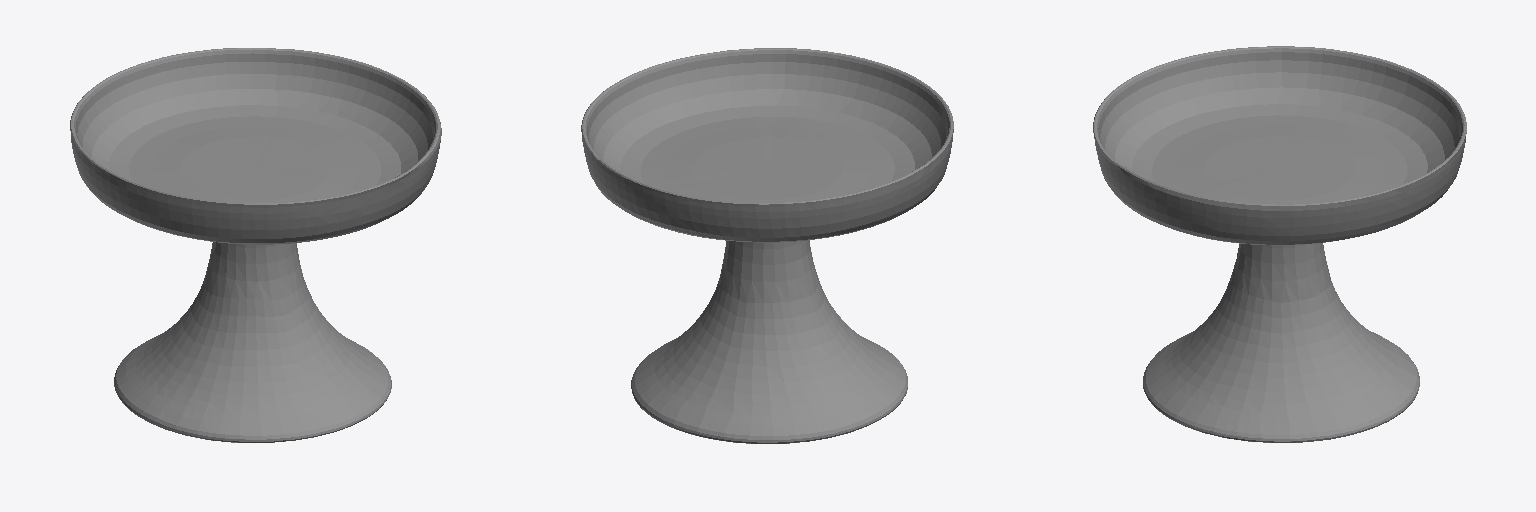
3 renders of one model, left to right at view 1: azimuth 30°, elevation 25°; view 2: azimuth 150°, elevation 25°; view 3: azimuth 270°, elevation 25°, orthographic.
Parts seen in each view (by area): view 1: objSZB_WY_140; view 2: objSZB_WY_140; view 3: objSZB_WY_140.
Boxes of the visible parts, <box> form: objSZB_WY_140: <box>70,48,441,442</box>; objSZB_WY_140: <box>581,48,953,443</box>; objSZB_WY_140: <box>1093,46,1466,442</box>.
Size of the model in its own units: 23.03 by 18.01 by 23.17.